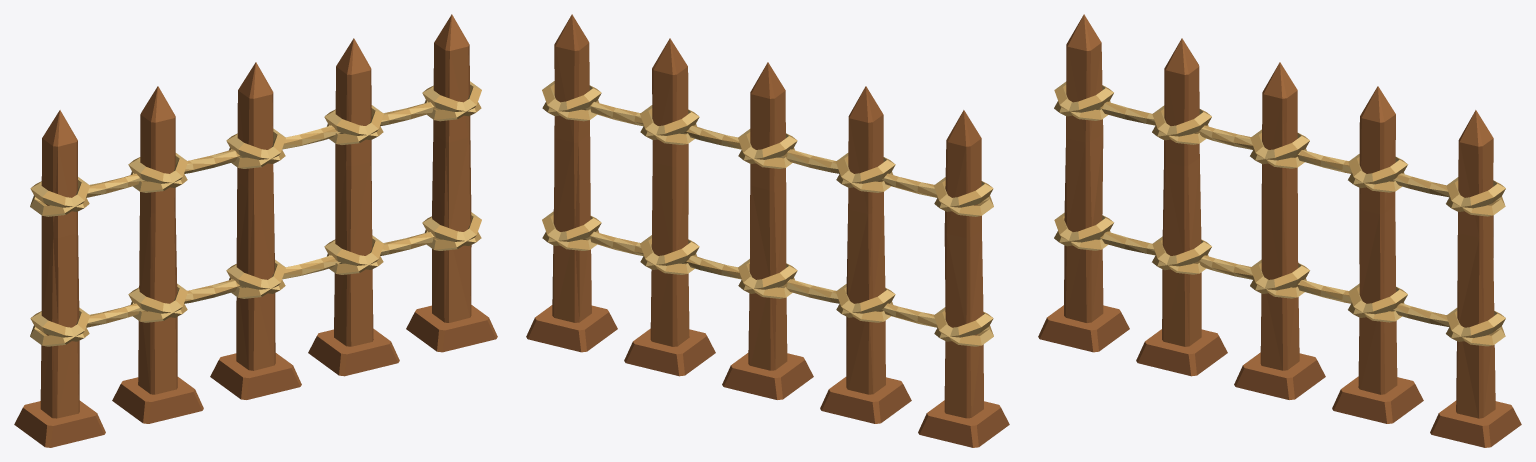
File: FMS_Bed_Stakes_Row.fbx
3 renders of one model, left to right at view 1: azimuth 30°, elevation 25°; view 2: azimuth 150°, elevation 25°; view 3: azimuth 330°, elevation 25°, orthographic.
Parts seen in each view (by area): view 1: FMS_Bed_Stakes_Row; view 2: FMS_Bed_Stakes_Row; view 3: FMS_Bed_Stakes_Row.
Boxes of the visible parts, <box> form: FMS_Bed_Stakes_Row: <box>14,14,497,447</box>; FMS_Bed_Stakes_Row: <box>526,14,1009,447</box>; FMS_Bed_Stakes_Row: <box>1038,14,1521,447</box>.
Bounding box in the file's own units: 2.08 × 1.4 × 0.28.
